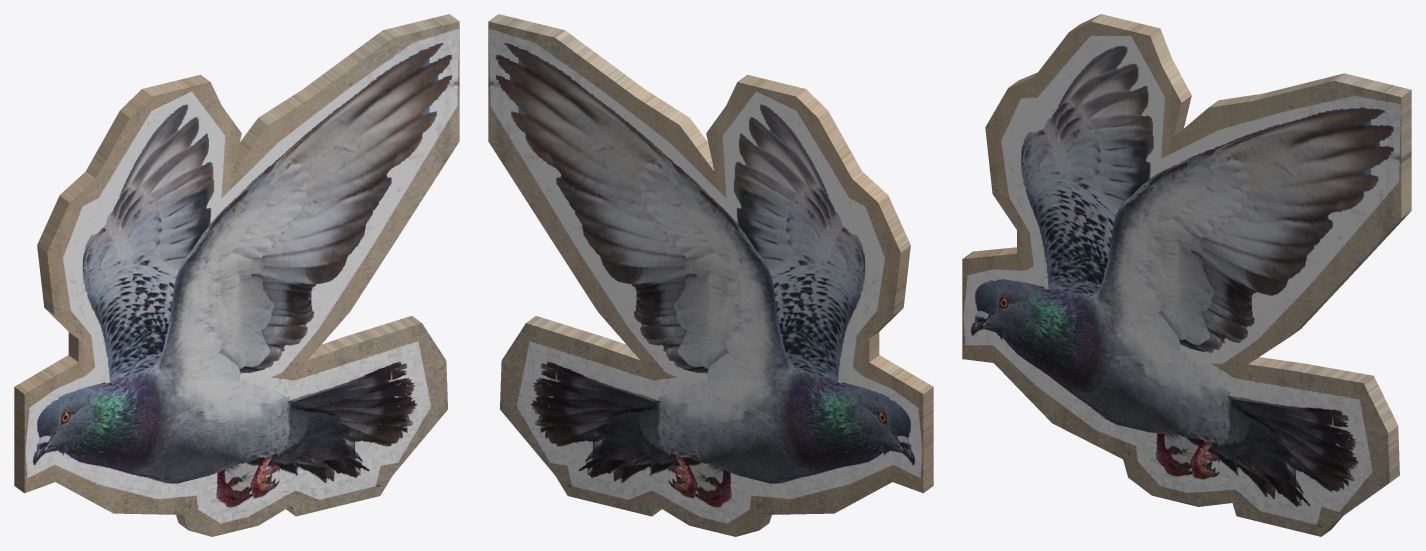
File: Pigeon_01.fbx
3 renders of one model, left to right at view 1: azimuth 30°, elevation 25°; view 2: azimuth 150°, elevation 25°; view 3: azimuth 330°, elevation 25°, orthographic.
Parts seen in each view (by area): view 1: Pigeon_01; view 2: Pigeon_01; view 3: Pigeon_01.
Boxes of the visible parts, box(x1,y1,x2,y2) form: Pigeon_01: box(14, 14, 459, 536); Pigeon_01: box(488, 14, 933, 536); Pigeon_01: box(962, 14, 1411, 536).
Bounding box in the file's own units: 100 × 100 × 4.02.
